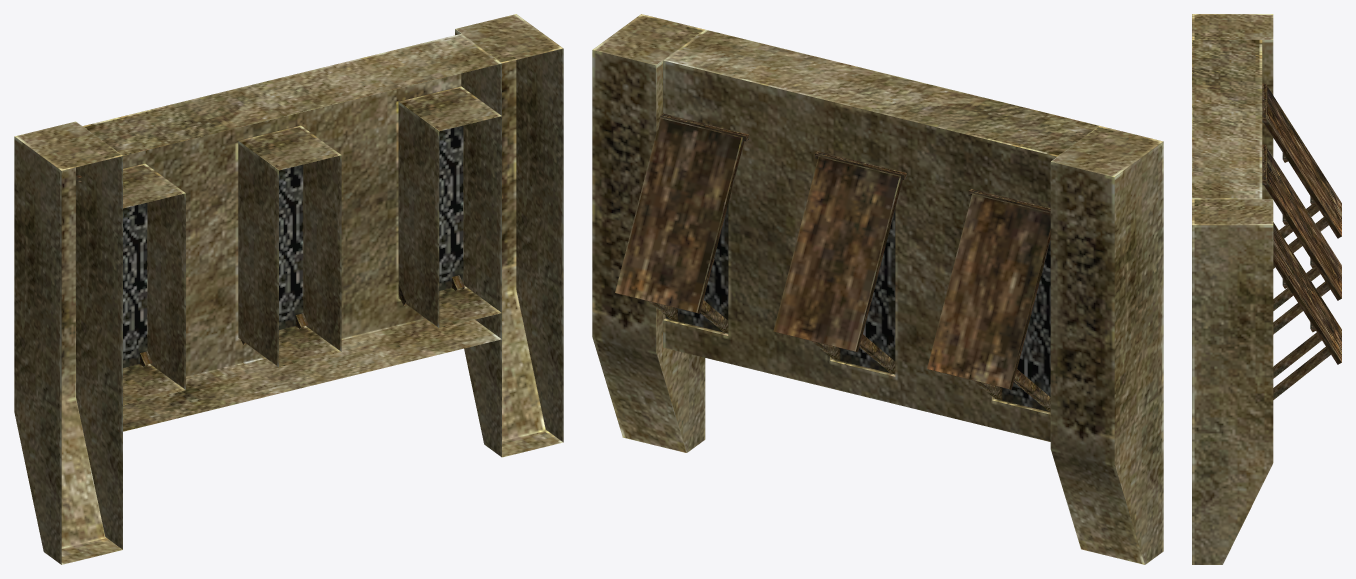
Rendered from hrt_window1.glb.
3 renders of one model, left to right at view 1: azimuth 30°, elevation 25°; view 2: azimuth 150°, elevation 25°; view 3: azimuth 270°, elevation 25°, orthographic. The views are drawn at different scales.
Parts seen in each view (by area): view 1: hrt_window1-col; view 2: hrt_window1-col; view 3: hrt_window1-col.
Part boxes in pixels (x1,y1,x2,y2): hrt_window1-col: (14,14,563,564); hrt_window1-col: (592,14,1163,564); hrt_window1-col: (1192,14,1341,564).
Size of the model in its own units: 2.63 by 1.97 by 0.787.
Materials: 1 (1 with a texture image).
